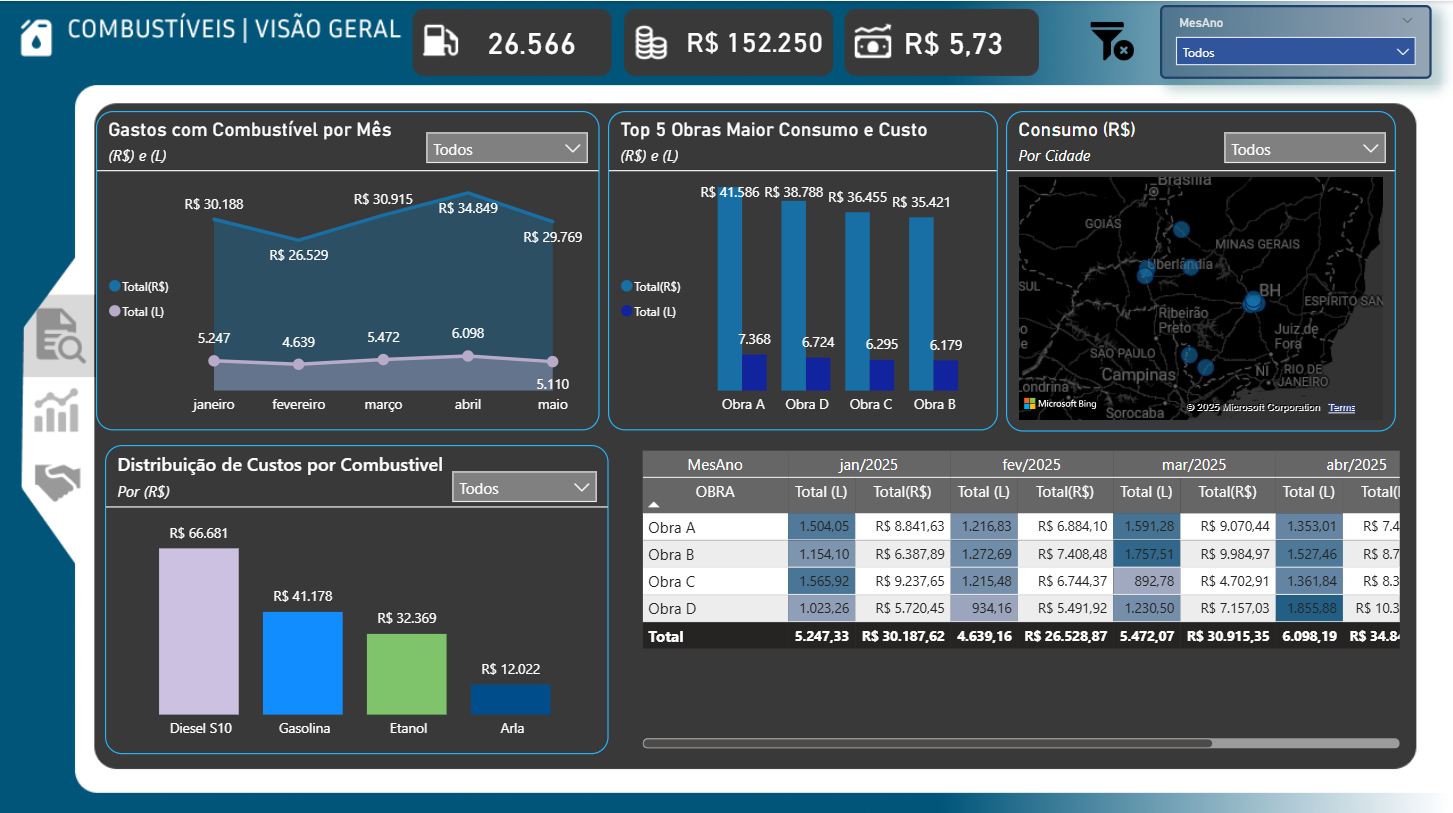

The page's visual inventory and layout, read from the dashboard file:
{"tool":"powerbi","page":{"name":"Visao_Geral","canvas":[1280,720],"ordinal":0},"visuals":[{"type":"card","fields":{"Values":["MEDIDAS.Total(R$)"]},"box":[583.9,6.1,159.8,58.8],"z":0},{"type":"card","fields":{"Values":["MEDIDAS.Total (L)"]},"box":[388.1,5.8,159.5,59.3],"z":1000},{"type":"card","fields":{"Values":["MEDIDAS.TickeMédio"]},"box":[759.5,6.1,159.8,58.8],"z":2000},{"type":"map","title":"Consumo (R$)","fields":{"Category":["T_Log_2025.Cidade"]},"box":[885.1,96.6,343.3,281.9],"z":3000},{"type":"pivotTable","title":"Resumo","fields":{"Values":["MEDIDAS.Total (L)","MEDIDAS.Total(R$)"],"Columns":["CALENDARIO.MesAno"],"Rows":["T_Log_2025.OBRA"]},"box":[560.2,391,676,272.3],"z":4000},{"type":"donutChart","title":"Distribuição de Custos por Tipo de Combustível","fields":{"Category":["T_Log_2025.Servico"],"Y":["MEDIDAS.Total(R$)"]},"box":[91.4,391,468.8,272.3],"z":5000},{"type":"slicer","fields":{"Values":["T_Log_2025.Servico"]},"box":[398.8,411.4,161.5,51.6],"z":6000},{"type":"slicer","title":"MÉDIA PESSOAS ALOJADAS/DIA","fields":{"Values":["CALENDARIO.MesAno"]},"box":[1020.3,3.9,239.3,65.2],"z":7000},{"type":"clusteredColumnChart","title":"Top 5 Obras Maior Consumo e Custo","fields":{"Category":["T_Log_2025.OBRA"],"Y":["MEDIDAS.Total(R$)","MEDIDAS.Total (L)"]},"box":[534.7,96.6,343.3,281],"z":8000},{"type":"areaChart","title":"Gastos com Combustível por Mês","fields":{"Category":["CALENDARIO.DATA.Variation.Hierarquia de datas.Ano","CALENDARIO.DATA.Variation.Hierarquia de datas.Trimestre","CALENDARIO.DATA.Variation.Hierarquia de datas.Mês","CALENDARIO.DATA.Variation.Hierarquia de datas.Dia","T_Log_2025.OBRA"],"Y":["MEDIDAS.Total(R$)","MEDIDAS.Total (L)"]},"box":[84.3,96.6,442.5,281],"z":9000},{"type":"slicer","fields":{"Values":["T_Log_2025.OBRA"]},"box":[365.3,105.4,161.6,51.8],"z":10000},{"type":"slicer","fields":{"Values":["T_Log_2025.Cidade"]},"box":[1066.8,115.9,161.6,50.9],"z":11000},{"type":"image","box":[954.2,11.7,47.7,47.7],"z":12000},{"type":"actionButton","box":[25.3,339.5,52.5,38.9],"z":13000},{"type":"actionButton","box":[25.3,275.3,52.5,38.9],"z":14000},{"type":"actionButton","box":[25.5,403.9,52.7,38.6],"z":15000}]}

Visuals, with their boxes on the page's 1280x720 design canvas (x1, y1, x2, y2). These are canvas units, not pixel positions in the 1453x813 screenshot, which may show the page scaled, cropped or inside an application window:
card - MEDIDAS.Total(R$): <bbox>584, 6, 744, 65</bbox>
card - MEDIDAS.Total (L): <bbox>388, 6, 548, 65</bbox>
card - MEDIDAS.TickeMédio: <bbox>760, 6, 919, 65</bbox>
"Consumo (R$)" map: <bbox>885, 97, 1228, 378</bbox>
"Resumo" pivotTable: <bbox>560, 391, 1236, 663</bbox>
"Distribuição de Custos por Tipo de Combustível" donutChart: <bbox>91, 391, 560, 663</bbox>
slicer - T_Log_2025.Servico: <bbox>399, 411, 560, 463</bbox>
"MÉDIA PESSOAS ALOJADAS/DIA" slicer: <bbox>1020, 4, 1260, 69</bbox>
"Top 5 Obras Maior Consumo e Custo" clusteredColumnChart: <bbox>535, 97, 878, 378</bbox>
"Gastos com Combustível por Mês" areaChart: <bbox>84, 97, 527, 378</bbox>
slicer - T_Log_2025.OBRA: <bbox>365, 105, 527, 157</bbox>
slicer - T_Log_2025.Cidade: <bbox>1067, 116, 1228, 167</bbox>
image: <bbox>954, 12, 1002, 59</bbox>
actionButton: <bbox>25, 340, 78, 378</bbox>
actionButton: <bbox>25, 275, 78, 314</bbox>
actionButton: <bbox>26, 404, 78, 442</bbox>
